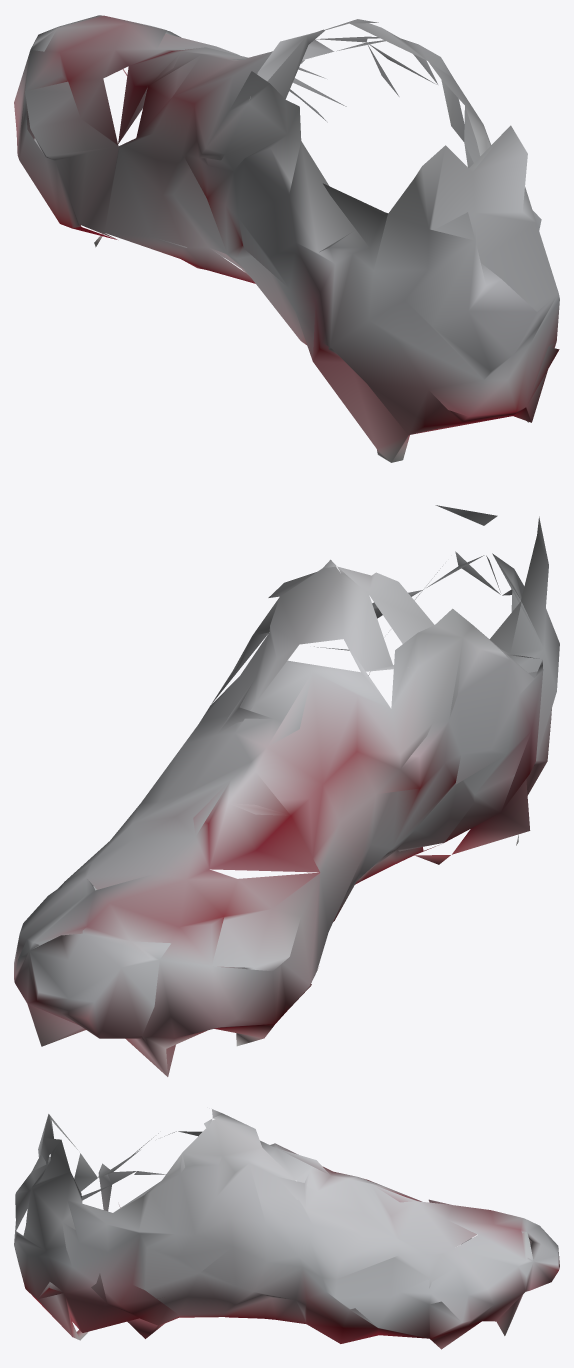
File: crampons-dupont.glb
The picture shows the model from 3 angles, top to bottom: view 1: azimuth 30°, elevation 25°; view 2: azimuth 150°, elevation 25°; view 3: azimuth 270°, elevation 25°; orthographic projection. The views are drawn at different scales.
Visible parts, largest first — view 1: crampons-dupont; view 2: crampons-dupont; view 3: crampons-dupont.
Part boxes in pixels (<box>): crampons-dupont: <box>14,15,559,462</box>; crampons-dupont: <box>14,505,559,1076</box>; crampons-dupont: <box>14,1109,559,1349</box>.
Size of the model in its own units: 0.3273 by 0.4237 by 1.
